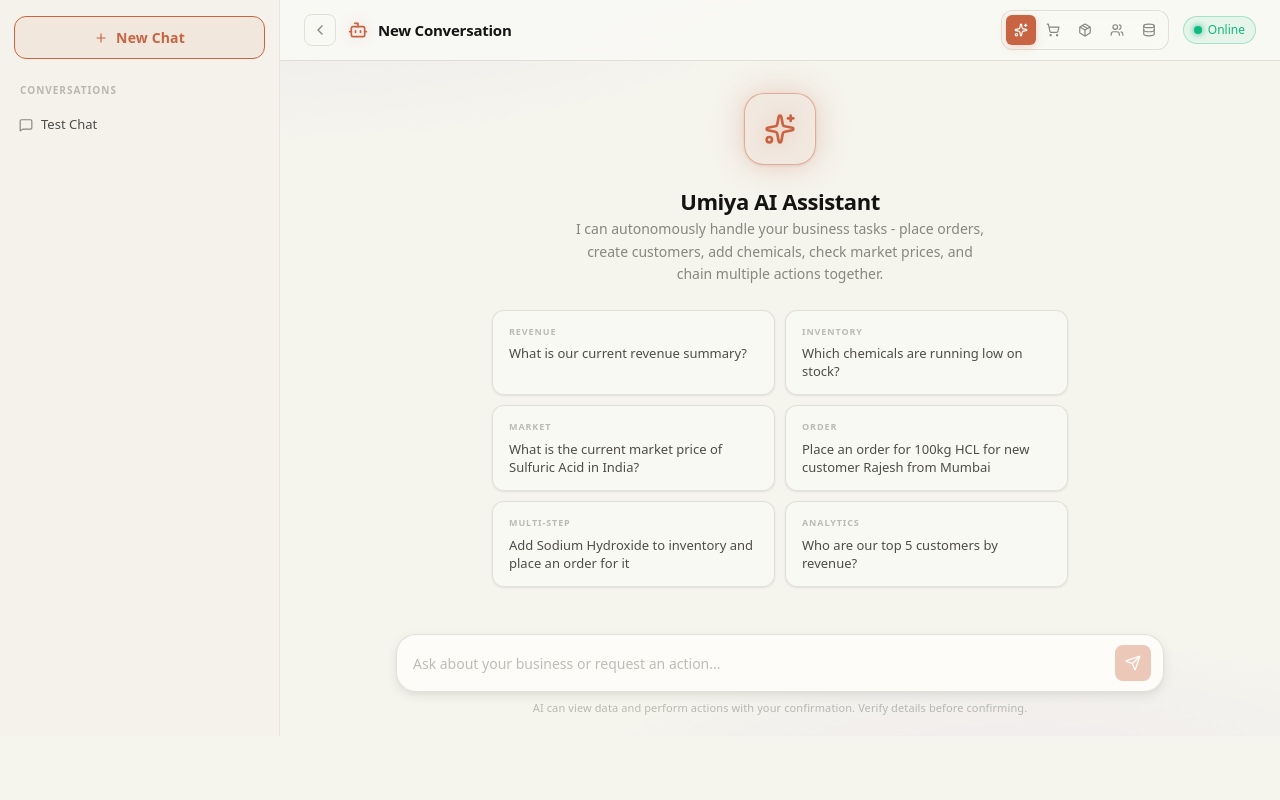
Test: AIAssistant › loads messages when clicking a conversation
Check: the text "Test Chat" is shown, box [41, 115, 97, 135]
Step 1. Click the button "Test Chat" → point(128, 125), box [19, 115, 236, 135]
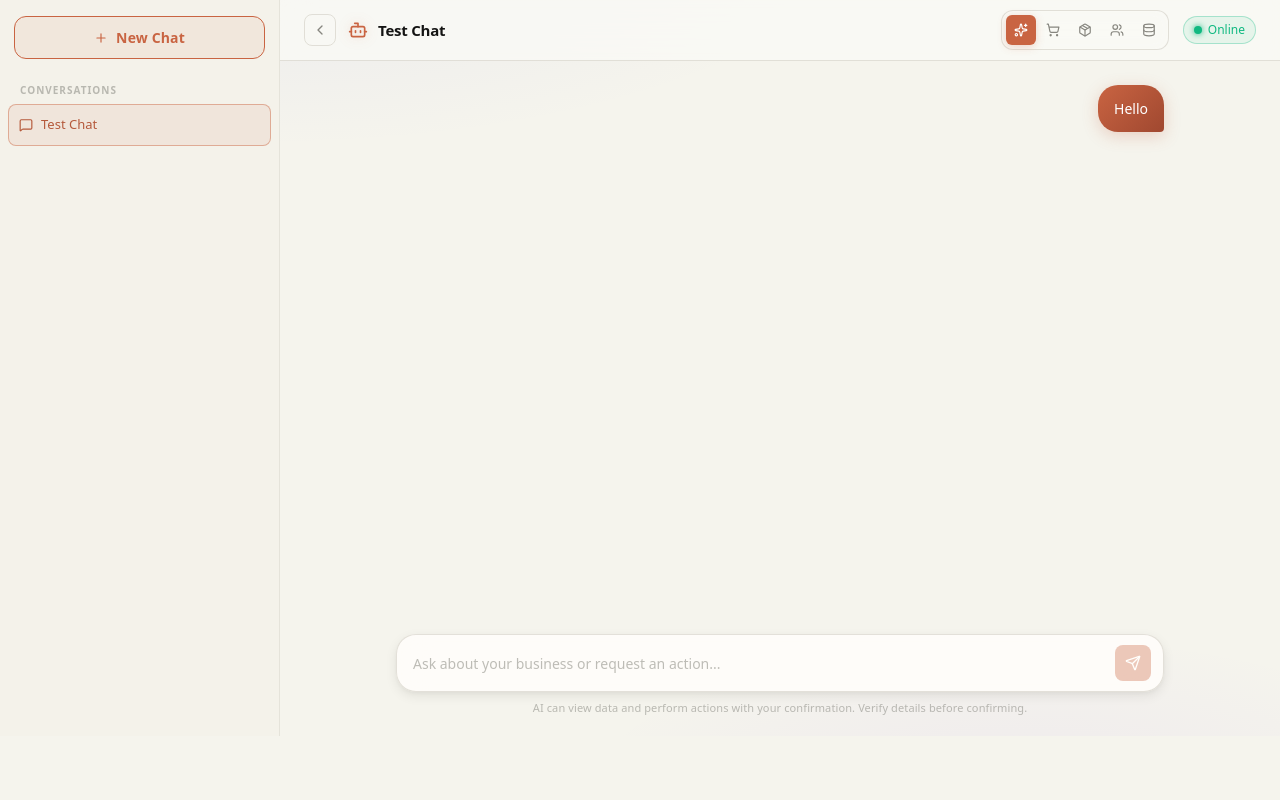
Check: the text "Hello" is shown, box [1114, 97, 1148, 120]
